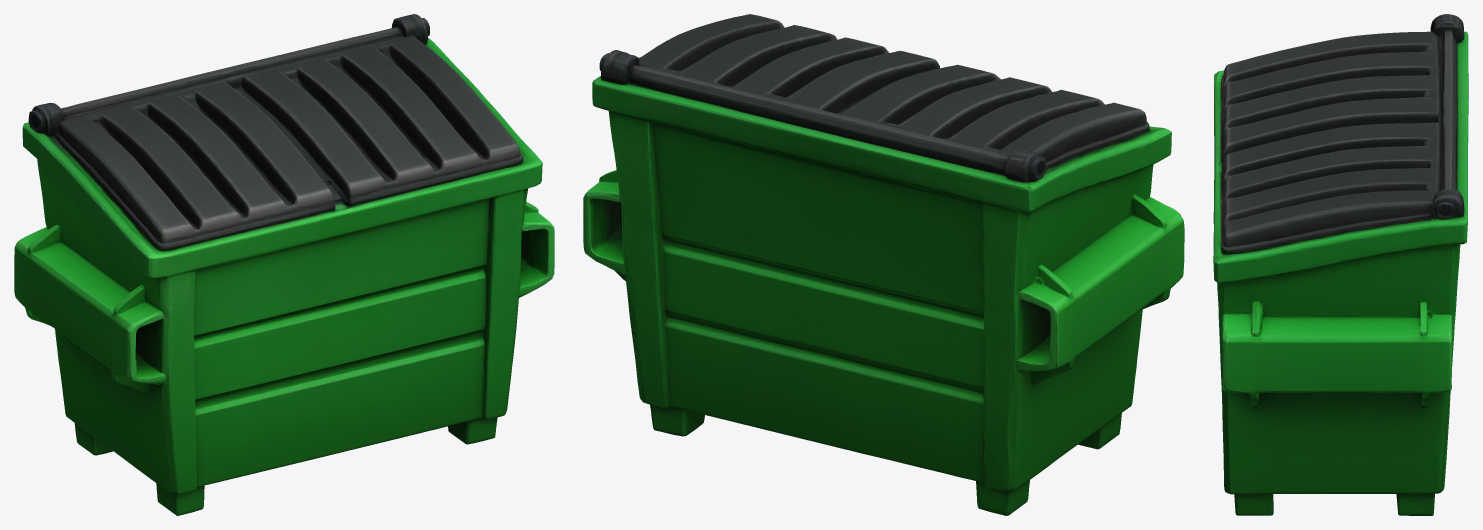
The model's file is dumpster.glb.
3 renders of one model, left to right at view 1: azimuth 30°, elevation 25°; view 2: azimuth 150°, elevation 25°; view 3: azimuth 270°, elevation 25°, orthographic. The views are drawn at different scales.
Visible parts, largest first — view 1: geometry_0; view 2: geometry_0; view 3: geometry_0.
Boxes of the visible parts, <box> form: geometry_0: <box>14,14,554,515</box>; geometry_0: <box>583,14,1184,515</box>; geometry_0: <box>1213,14,1468,515</box>.
Bounding box in the file's own units: 1 × 0.7552 × 0.5223.
1 material, 1 textured.
